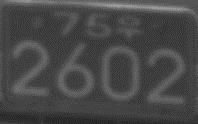0: (100, 44, 141, 103)
2: (146, 47, 187, 104), (11, 38, 50, 97)
5: (84, 12, 110, 37)
6: (56, 41, 95, 99)
7: (53, 9, 80, 33)
우: (115, 14, 142, 38)
